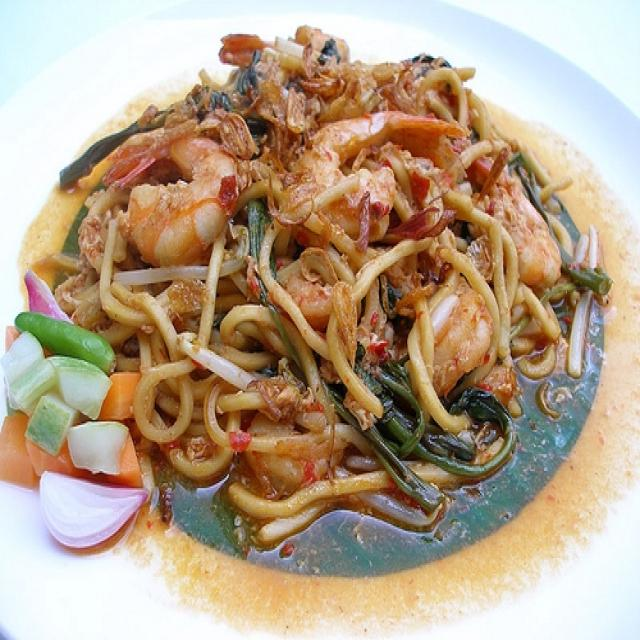面条主食: (32, 17, 635, 599)
